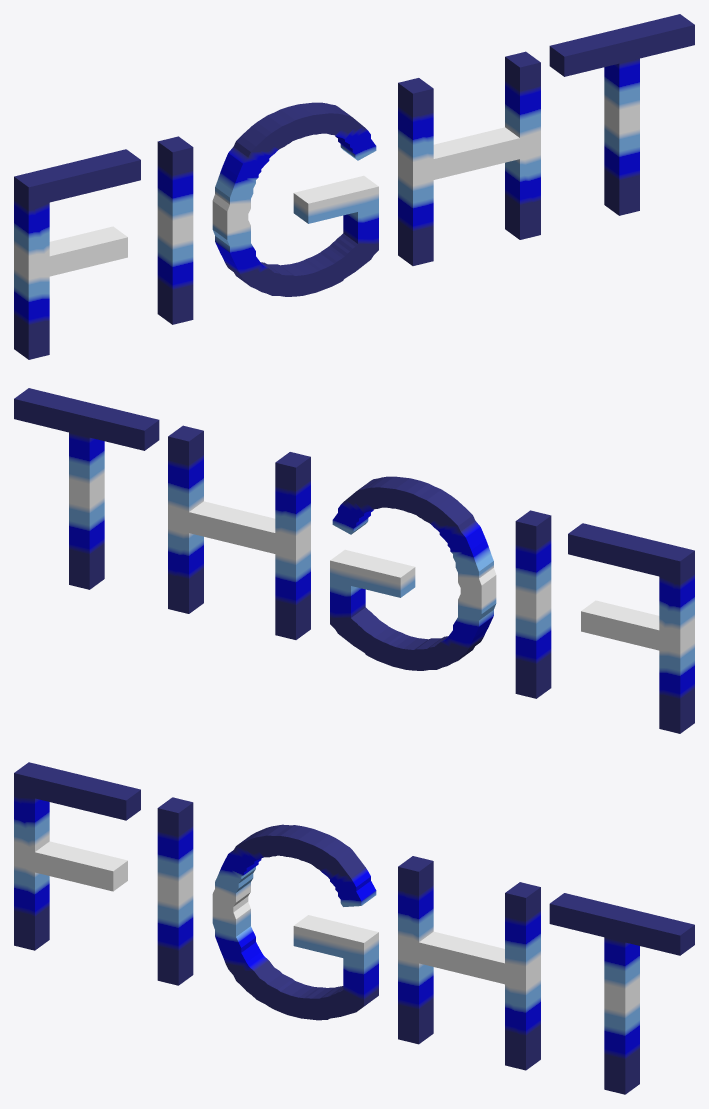
The model's file is FIGHT.glb.
The picture shows the model from 3 angles, top to bottom: view 1: azimuth 30°, elevation 25°; view 2: azimuth 150°, elevation 25°; view 3: azimuth 330°, elevation 25°; orthographic projection.
Visible parts, largest first — view 1: FIGHT; view 2: FIGHT; view 3: FIGHT.
Part boxes in pixels (x1,y1,x2,y2): FIGHT: (14, 14, 694, 359); FIGHT: (14, 388, 694, 733); FIGHT: (14, 762, 694, 1094).
Bounding box in the file's own units: 37.49 × 9.58 × 1.45.
Materials: 1 (1 with a texture image).
